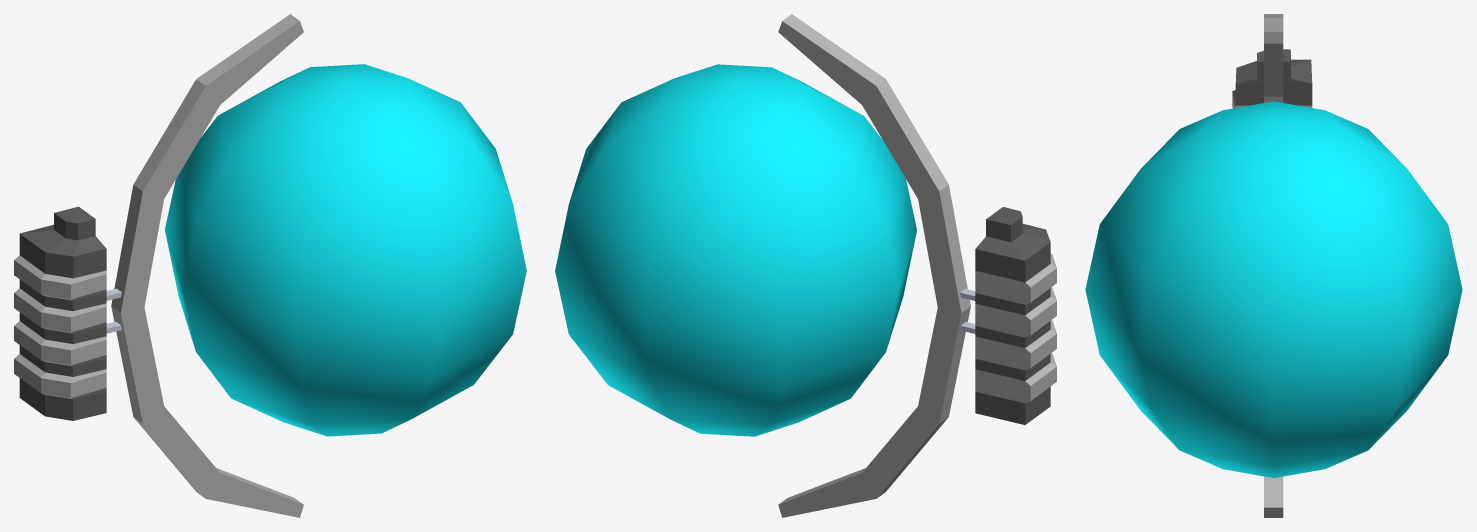
The model's file is shieldCore.glb.
The picture shows the model from 3 angles, left to right: view 1: azimuth 30°, elevation 25°; view 2: azimuth 150°, elevation 25°; view 3: azimuth 270°, elevation 25°; orthographic projection.
Parts seen in each view (by area): view 1: ShieldCore; view 2: ShieldCore; view 3: ShieldCore.
Part boxes in pixels (x1,y1,x2,y2): ShieldCore: [14, 14, 526, 517]; ShieldCore: [555, 14, 1056, 517]; ShieldCore: [1085, 14, 1462, 517].
Size of the model in its own units: 0.2202 by 0.2199 by 0.1503.
1 material, 1 textured.
